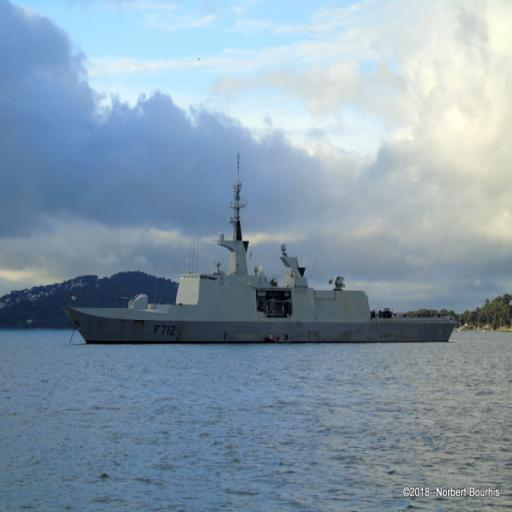Fragata: (64, 154, 466, 347)
